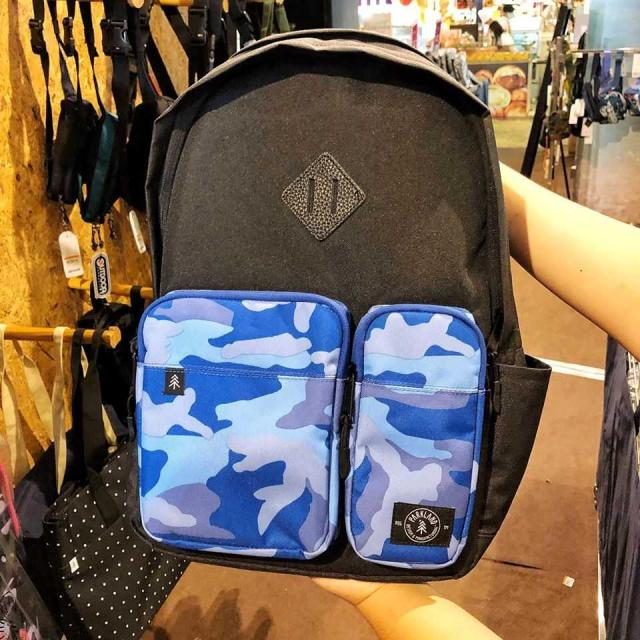Handbag: (131, 26, 552, 582)
